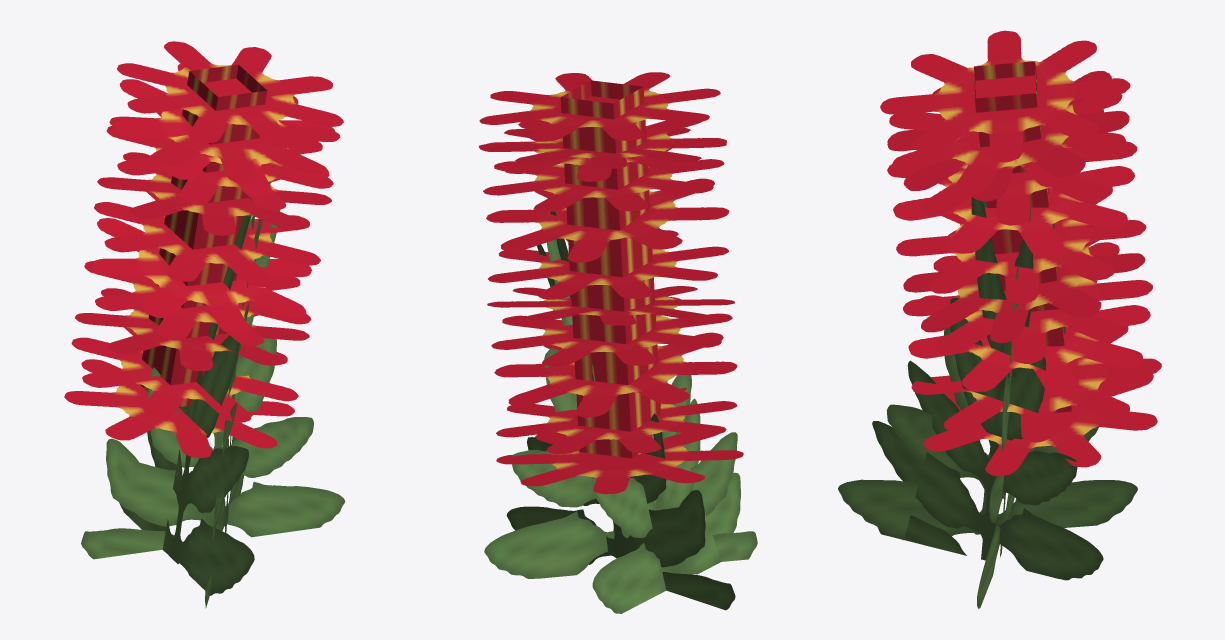
Rendered from BottleBrushFlower.fbx.
The picture shows the model from 3 angles, left to right: view 1: azimuth 30°, elevation 25°; view 2: azimuth 150°, elevation 25°; view 3: azimuth 270°, elevation 25°; orthographic projection. The views are drawn at different scales.
Visible parts, largest first — view 1: WattleFlower; view 2: WattleFlower; view 3: WattleFlower.
Boxes of the visible parts, x1,y1,x2,y2 form: WattleFlower: [64, 41, 345, 608]; WattleFlower: [478, 72, 757, 613]; WattleFlower: [838, 30, 1161, 608].
Size of the model in its own units: 0.7723 by 1.12 by 0.738.
